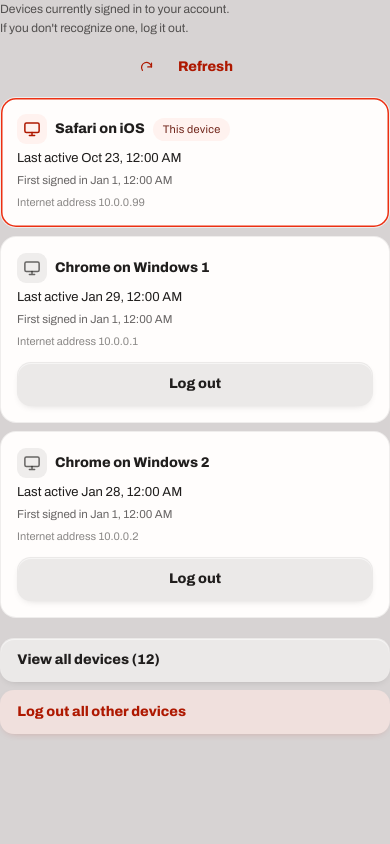
Test: the drawer › opens on the view-all control and lists every active session
Click the button "View all devices (12)".
click(77, 659)  # box [0,638,389,682]
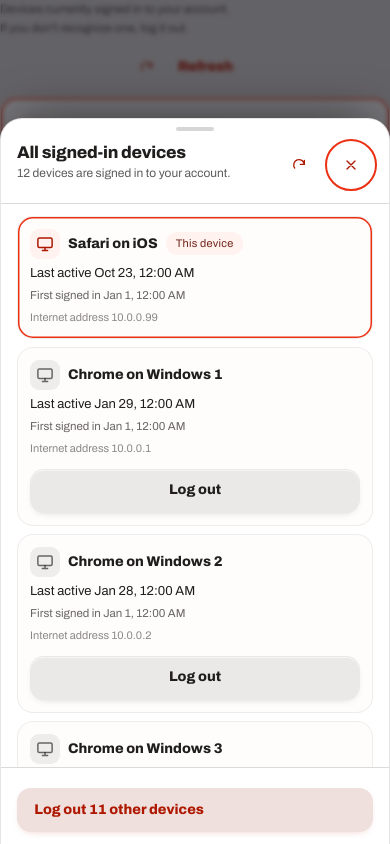
Result: the heading "All signed-in devices" is shown at [17,143,186,162]
Result: the text "12 devices are signed in to your account." is shown at [17,166,231,180]
